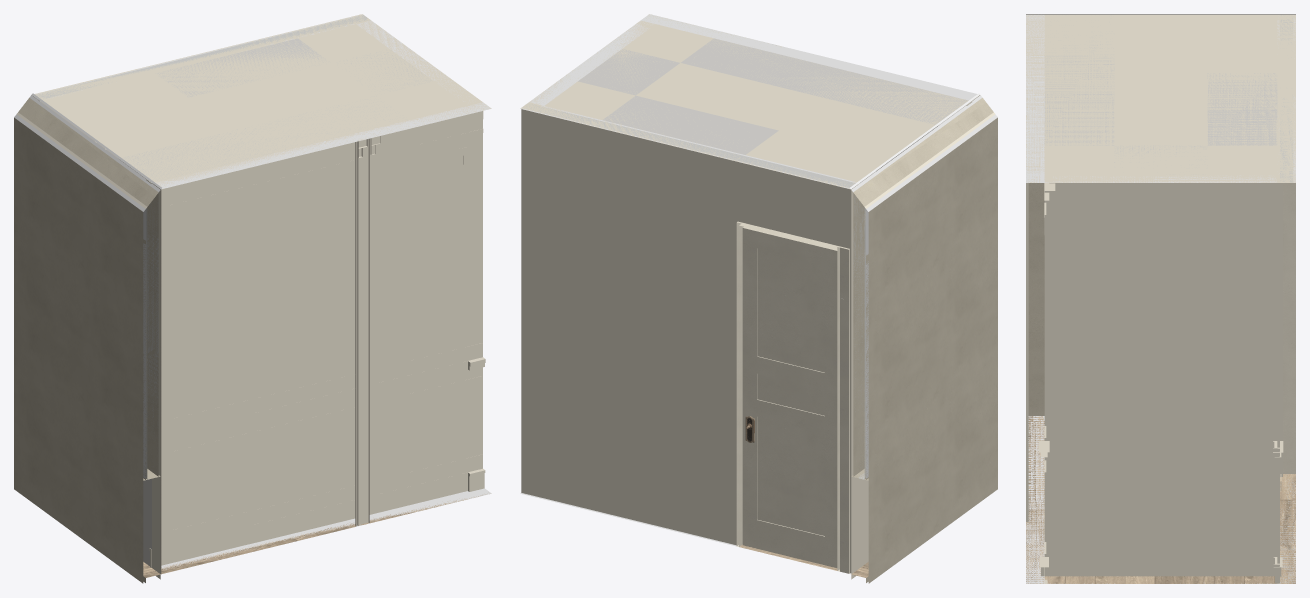
Rendered from upstairs-closet-west-72d96f70611e.glb.
The picture shows the model from 3 angles, left to right: view 1: azimuth 30°, elevation 25°; view 2: azimuth 150°, elevation 25°; view 3: azimuth 270°, elevation 25°; orthographic projection. The views are drawn at different scales.
Visible parts, largest first — view 1: upstairs-closet-west-6e269356ae8bfd70, upstairs-closet-west-9d91b47435c6fb33, upstairs-closet-west-312b4ac1be39223d, upstairs-closet-west-33ee0b466567e5f0, upstairs-closet-west-ed5fdcd3ee9c0dd5, upstairs-closet-west-39b94aca90fa4b53, upstairs-closet-west-3a4d9d62ecd7be1c, upstairs-closet-west-414385708a06acff, upstairs-closet-west-06754748489735a0, upstairs-closet-west-6a4a24524a86ae48, upstairs-closet-west-b63ee86b16afd4c0, upstairs-closet-west-1e3385c37a14aaf6 (+9 smaller); view 2: upstairs-closet-west-eb02897c2e79e2b1, upstairs-closet-west-312b4ac1be39223d, upstairs-closet-west-7406100458e293ce, upstairs-closet-west-9d91b47435c6fb33, upstairs-closet-west-33ee0b466567e5f0, upstairs-closet-west-242740a07d2af182, upstairs-closet-west-6a4a24524a86ae48, upstairs-closet-west-3a4d9d62ecd7be1c, upstairs-closet-west-39b94aca90fa4b53, upstairs-closet-west-442e5a19ed849720, upstairs-closet-west-4fe731a8ba1c3bde, upstairs-closet-west-6e269356ae8bfd70 (+3 smaller); view 3: upstairs-closet-west-af27112094daa34f, upstairs-closet-west-9d91b47435c6fb33, upstairs-closet-west-6e269356ae8bfd70, upstairs-closet-west-2575515a05775d9e, upstairs-closet-west-6a4a24524a86ae48, upstairs-closet-west-442e5a19ed849720, upstairs-closet-west-242740a07d2af182, upstairs-closet-west-7f77ce4796f35946, upstairs-closet-west-eb02897c2e79e2b1, upstairs-closet-west-ed5fdcd3ee9c0dd5, upstairs-closet-west-72fcfe59ea86eabd.
Boxes of the visible parts, x1,y1,x2,y2 form: upstairs-closet-west-6e269356ae8bfd70: [152, 102, 491, 573]; upstairs-closet-west-9d91b47435c6fb33: [31, 14, 491, 188]; upstairs-closet-west-312b4ac1be39223d: [14, 114, 145, 480]; upstairs-closet-west-33ee0b466567e5f0: [14, 386, 160, 583]; upstairs-closet-west-ed5fdcd3ee9c0dd5: [355, 138, 369, 526]; upstairs-closet-west-39b94aca90fa4b53: [18, 98, 158, 479]; upstairs-closet-west-3a4d9d62ecd7be1c: [29, 95, 160, 476]; upstairs-closet-west-414385708a06acff: [149, 469, 478, 567]; upstairs-closet-west-06754748489735a0: [165, 160, 355, 424]; upstairs-closet-west-6a4a24524a86ae48: [155, 38, 329, 97]; upstairs-closet-west-b63ee86b16afd4c0: [165, 407, 355, 535]; upstairs-closet-west-1e3385c37a14aaf6: [249, 358, 479, 422]; upstairs-closet-west-eb02897c2e79e2b1: [520, 103, 859, 574]; upstairs-closet-west-312b4ac1be39223d: [866, 114, 997, 480]; upstairs-closet-west-7406100458e293ce: [742, 226, 837, 567]; upstairs-closet-west-9d91b47435c6fb33: [520, 14, 980, 189]; upstairs-closet-west-33ee0b466567e5f0: [851, 386, 997, 583]; upstairs-closet-west-242740a07d2af182: [681, 38, 971, 130]; upstairs-closet-west-6a4a24524a86ae48: [602, 95, 778, 154]; upstairs-closet-west-3a4d9d62ecd7be1c: [851, 95, 982, 476]; upstairs-closet-west-39b94aca90fa4b53: [853, 98, 993, 479]; upstairs-closet-west-442e5a19ed849720: [736, 221, 840, 571]; upstairs-closet-west-4fe731a8ba1c3bde: [840, 246, 849, 573]; upstairs-closet-west-6e269356ae8bfd70: [641, 14, 979, 100]; upstairs-closet-west-af27112094daa34f: [1044, 175, 1277, 583]; upstairs-closet-west-9d91b47435c6fb33: [1026, 14, 1295, 182]; upstairs-closet-west-6e269356ae8bfd70: [1026, 14, 1044, 583]; upstairs-closet-west-2575515a05775d9e: [1026, 416, 1295, 583]; upstairs-closet-west-6a4a24524a86ae48: [1207, 73, 1277, 145]; upstairs-closet-west-442e5a19ed849720: [1283, 183, 1295, 473]; upstairs-closet-west-242740a07d2af182: [1044, 21, 1114, 145]; upstairs-closet-west-7f77ce4796f35946: [1044, 215, 1277, 235]; upstairs-closet-west-eb02897c2e79e2b1: [1277, 15, 1295, 583]; upstairs-closet-west-ed5fdcd3ee9c0dd5: [1026, 183, 1028, 521]; upstairs-closet-west-72fcfe59ea86eabd: [1280, 183, 1282, 476].
Size of the model in its own units: 2.74 by 2.95 by 1.77.
Materials: 22 (3 with a texture image).
